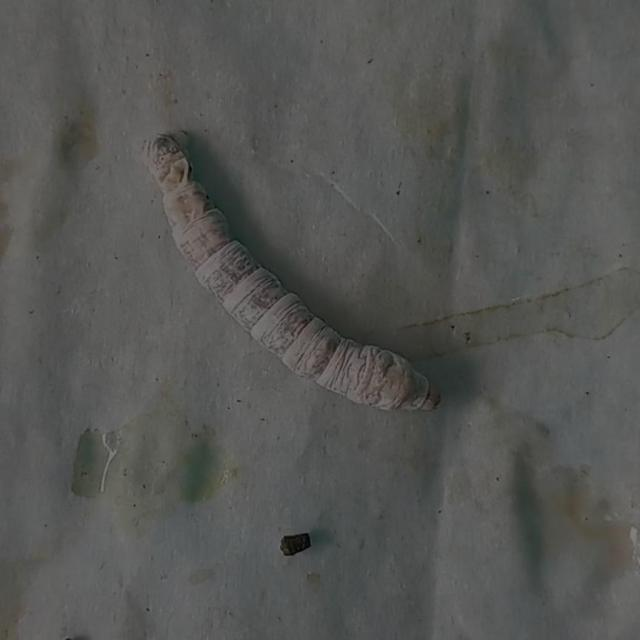Grasserie: (134, 118, 444, 434)
